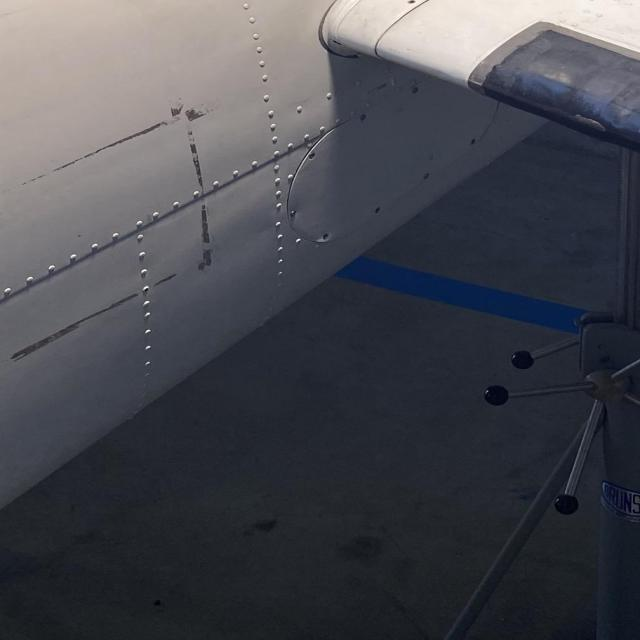Missing_Fastener: (405, 0, 417, 6), (322, 234, 330, 242), (374, 206, 382, 214)
